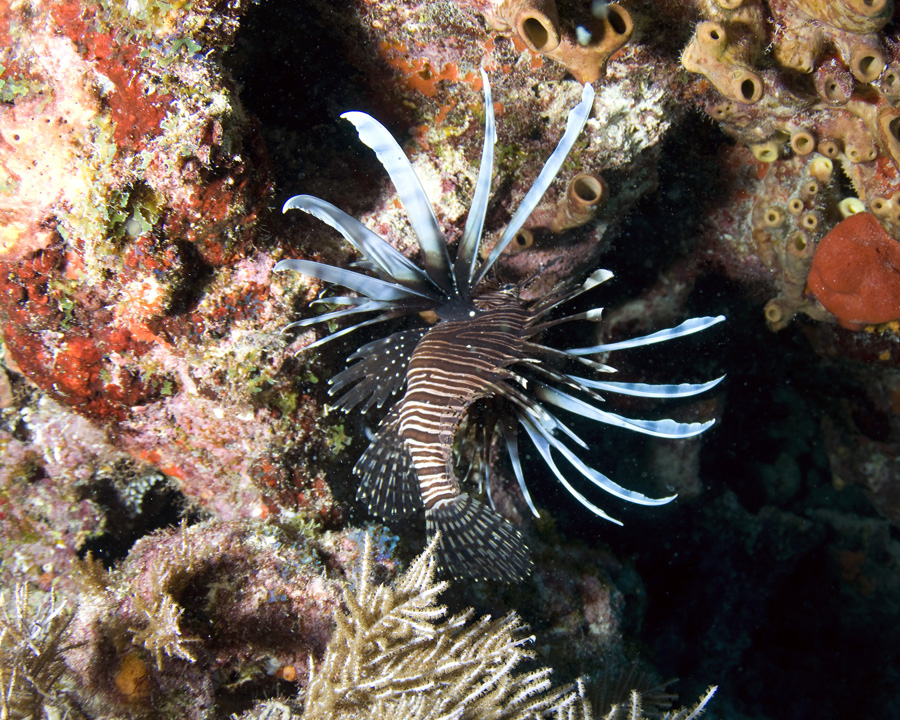Pterois_volitans: (244, 84, 721, 629)
